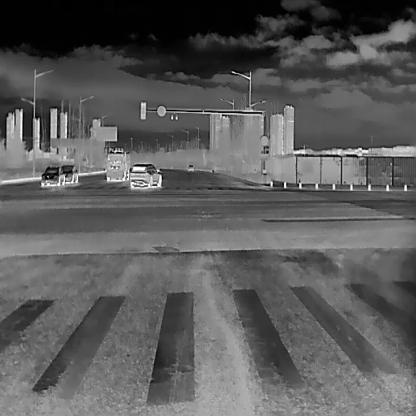car: (128, 162, 161, 187), (40, 165, 64, 185), (60, 163, 78, 182), (187, 163, 193, 171)
truck: (106, 150, 130, 182)
